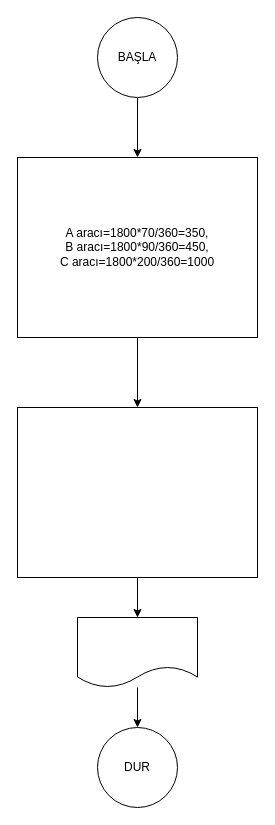
This 275x825 diagram has some shape labels left out. Here are the shapes that lost their labels. From the top down, the centre of each, then its label:
[137,492]: satış sayısı: A=350*40/100=140, B=450*20/100=90, C=800-230=570
[137,652]: 570/10=57=c aracı satış yüzdesi
